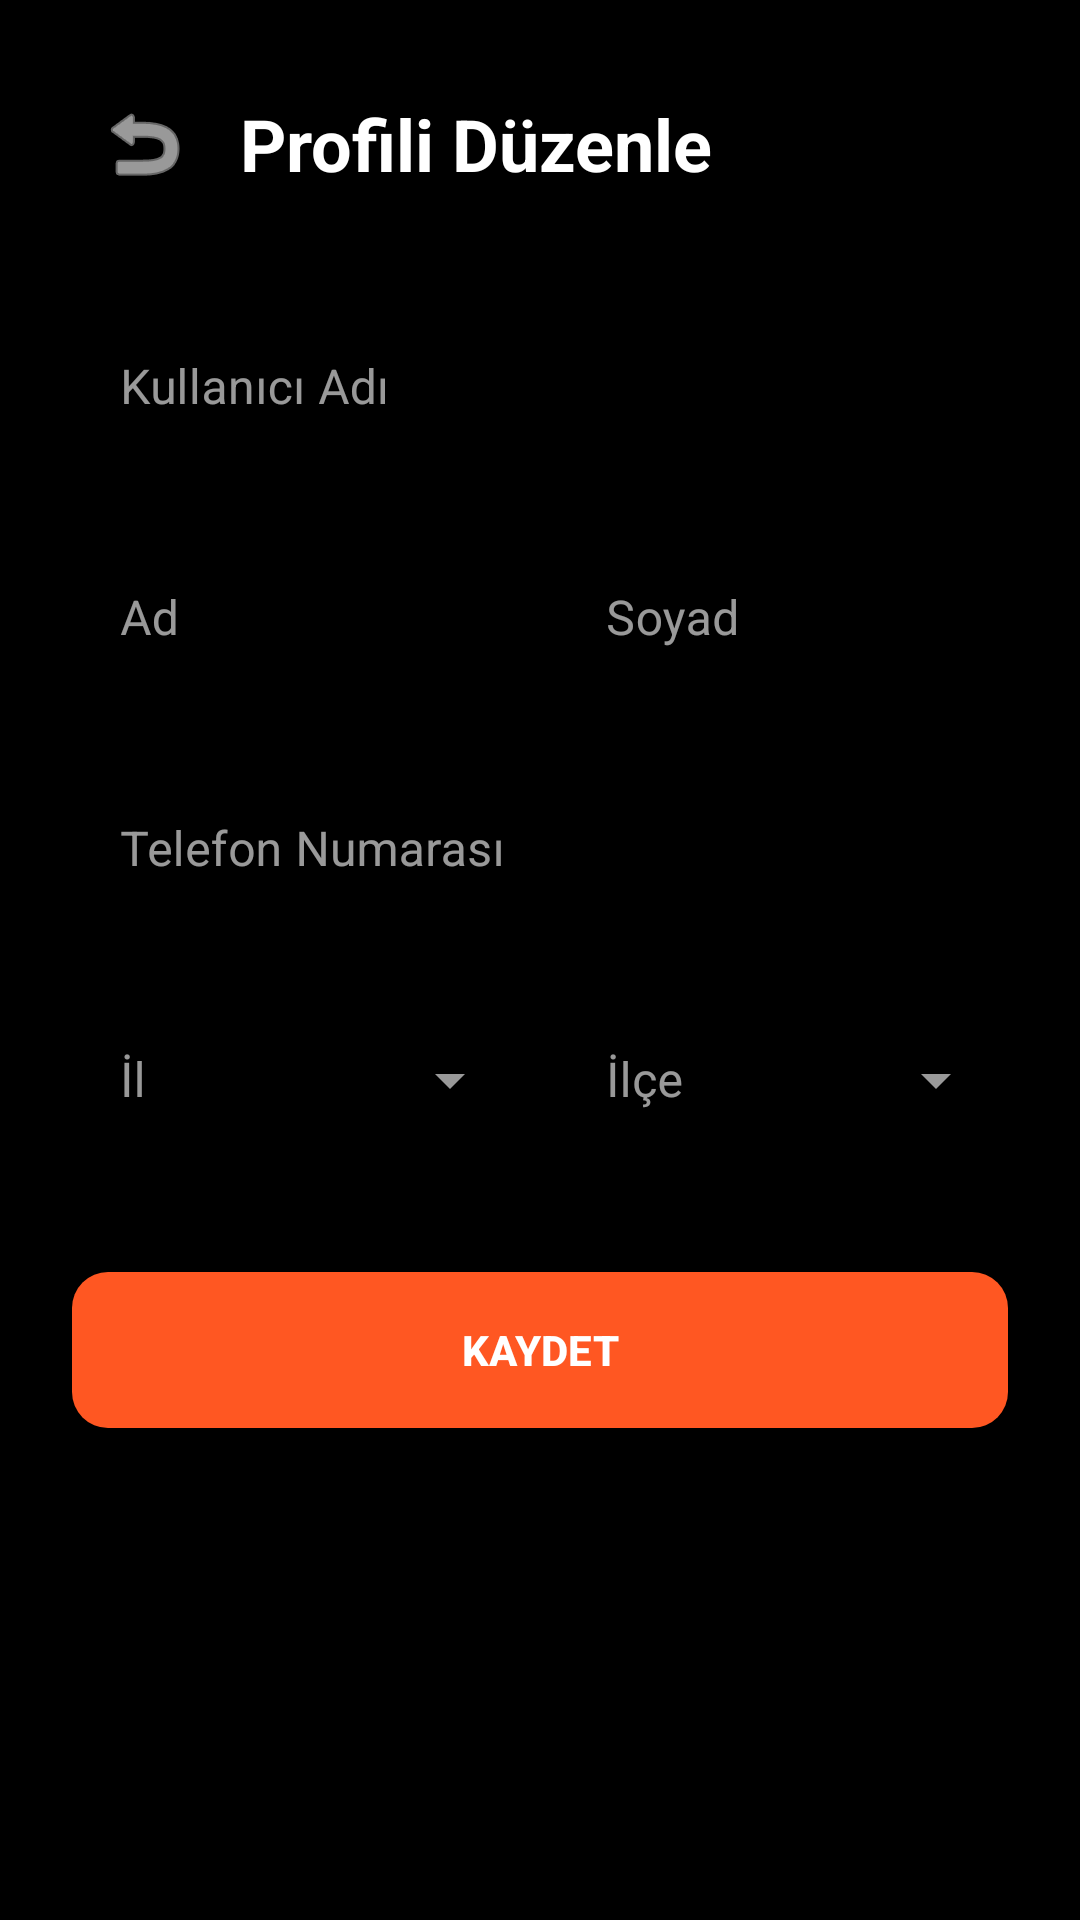

Icons on this 1080px×1920px Android screen, each with the point to tap as [x,y]:
revert: [145,144]
